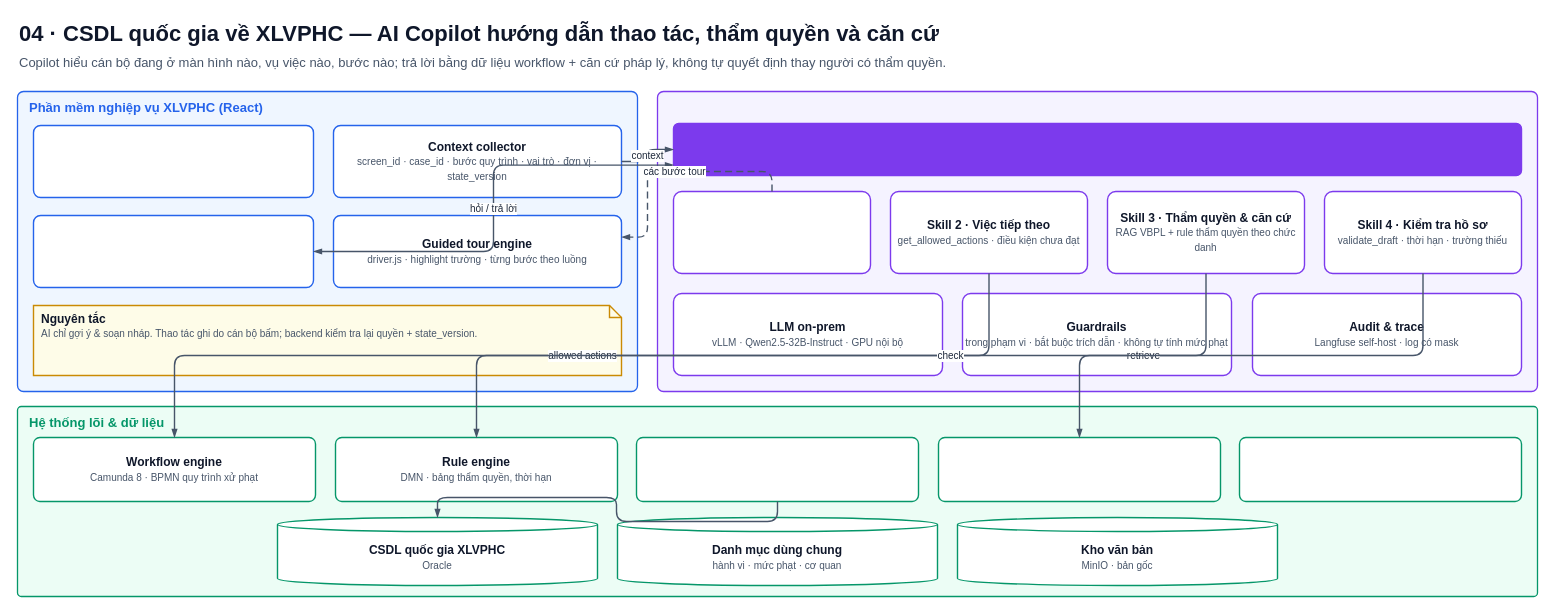
Some shapes in this 1556 by 614 pixel diagram are drawn without their labels. The box of each missing label's shape, as (x1, y1, x2, y2) in pixels:
API nghiệp vụ Spring Boot · vụ việc, biên bản, quyết định: (635, 436, 919, 502)
Copilot API + LangGraph agent FastAPI · SSE · checkpoint · trace_id · rate limit: (672, 122, 1522, 176)
Copilot panel chat · "việc tiếp theo" · căn cứ · nút thao tác: (32, 214, 314, 288)
Copilot service (on-prem, mạng nội bộ): (656, 90, 1538, 392)
KB pháp lý & HDSD VBPL · hướng dẫn nghiệp vụ · FAQ: (937, 436, 1221, 502)
Màn hình nghiệp vụ lập biên bản · ra quyết định · thi hành · khiếu nại: (32, 124, 314, 198)
Search index OpenSearch BM25 + vector: (1238, 436, 1522, 502)
Skill 1 · Hướng dẫn thao tác screen & field catalog (từ SRS/HDSD): (672, 190, 871, 274)
